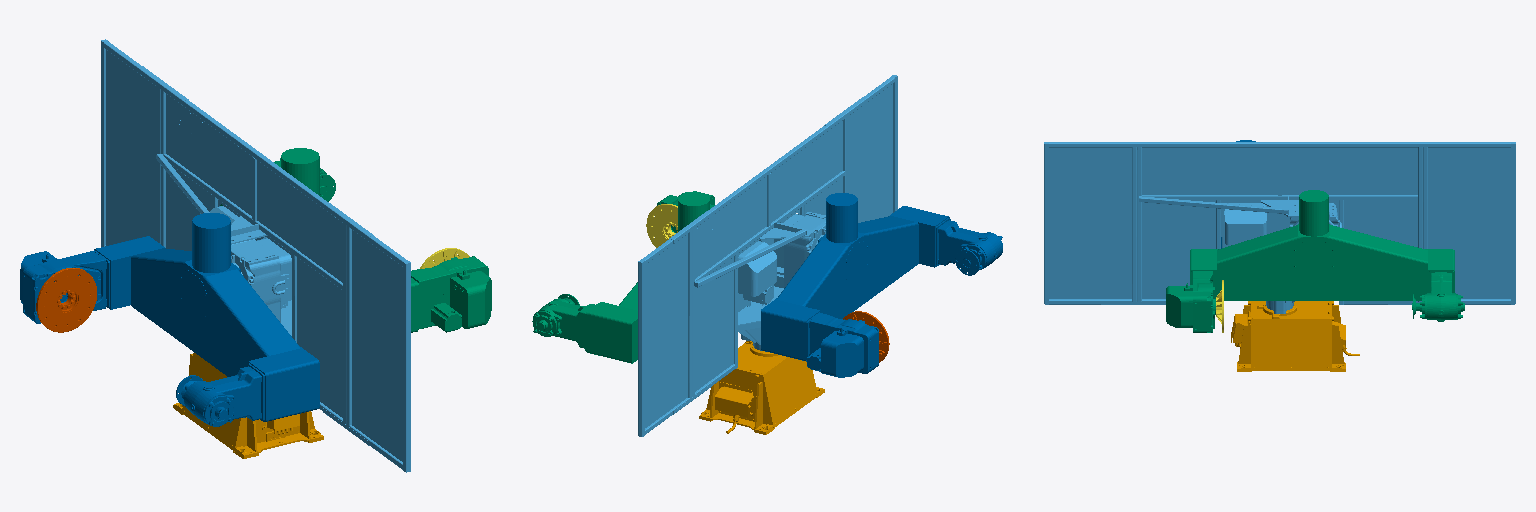
The robot description file, URDF, robot "Irbpd_600_D1000_L1600_IRC5_rev02_CAD":
<?xml version="1.0" ?>
<robot name="Irbpd_600_D1000_L1600_IRC5_rev02_CAD">

<link name="base_link">
  <inertial>
    <origin xyz="-0.00012294956196377398 0.08797612539342566 0.21441615376359383" rpy="0 0 0"/>
    <mass value="1310.5292686538126"/>
    <inertia ixx="82.104533" iyy="51.101771" izz="91.002161" ixy="0.063507" iyz="0.950218" ixz="-0.013079"/>
  </inertial>
  <visual>
    <origin xyz="0 0 0" rpy="0 0 0"/>
    <geometry>
      <mesh filename="meshes/base_link.stl" scale="0.001 0.001 0.001"/>
    </geometry>
  </visual>
  <collision>
    <origin xyz="0 0 0" rpy="0 0 0"/>
    <geometry>
      <mesh filename="meshes/base_link.stl" scale="0.001 0.001 0.001"/>
    </geometry>
  </collision>
</link>

<link name="Component12_1">
  <inertial>
    <origin xyz="0.002115300240727233 -4.3749366794873504e-05 0.66129042828105" rpy="0 0 0"/>
    <mass value="2016.8839709960466"/>
    <inertia ixx="830.474177" iyy="239.86552" izz="703.835657" ixy="-55.52602" iyz="-0.058092" ixz="2.07398"/>
  </inertial>
  <visual>
    <origin xyz="0.0 0.0 -0.481" rpy="0 0 0"/>
    <geometry>
      <mesh filename="meshes/Component12_1.stl" scale="0.001 0.001 0.001"/>
    </geometry>
  </visual>
  <collision>
    <origin xyz="0.0 0.0 -0.481" rpy="0 0 0"/>
    <geometry>
      <mesh filename="meshes/Component12_1.stl" scale="0.001 0.001 0.001"/>
    </geometry>
  </collision>
</link>

<link name="Component6_1">
  <inertial>
    <origin xyz="0.2636536705375717 -0.011340185697032434 -0.18449522862640144" rpy="0 0 0"/>
    <mass value="3054.2074119259582"/>
    <inertia ixx="1680.729912" iyy="266.394826" izz="1767.460738" ixy="109.80477" iyz="-9.127461" ixz="25.729839"/>
  </inertial>
  <visual>
    <origin xyz="-0.363 -0.288 -1.25" rpy="0 0 0"/>
    <geometry>
      <mesh filename="meshes/Component6_1.stl" scale="0.001 0.001 0.001"/>
    </geometry>
  </visual>
  <collision>
    <origin xyz="-0.363 -0.288 -1.25" rpy="0 0 0"/>
    <geometry>
      <mesh filename="meshes/Component6_1.stl" scale="0.001 0.001 0.001"/>
    </geometry>
  </collision>
</link>

<link name="Component13_1">
  <inertial>
    <origin xyz="0.0011124864297784587 0.043567865600633915 -1.5365486660812167e-13" rpy="0 0 0"/>
    <mass value="21.250303833376837"/>
    <inertia ixx="0.228504" iyy="0.446816" izz="0.231342" ixy="0.000583" iyz="0.0" ixz="-0.0"/>
  </inertial>
  <visual>
    <origin xyz="-1.145 0.5382 -1.0" rpy="0 0 0"/>
    <geometry>
      <mesh filename="meshes/Component13_1.stl" scale="0.001 0.001 0.001"/>
    </geometry>
  </visual>
  <collision>
    <origin xyz="-1.145 0.5382 -1.0" rpy="0 0 0"/>
    <geometry>
      <mesh filename="meshes/Component13_1.stl" scale="0.001 0.001 0.001"/>
    </geometry>
  </collision>
</link>

<link name="Component5_1">
  <inertial>
    <origin xyz="-0.2636536768667922 0.01134018284870364 -0.18449522839979826" rpy="0 0 0"/>
    <mass value="3054.2074576138025"/>
    <inertia ixx="1680.729959" iyy="266.394835" izz="1767.460793" ixy="109.804768" iyz="9.127457" ixz="-25.729839"/>
  </inertial>
  <visual>
    <origin xyz="0.363 0.288 -1.25" rpy="0 0 0"/>
    <geometry>
      <mesh filename="meshes/Component5_1.stl" scale="0.001 0.001 0.001"/>
    </geometry>
  </visual>
  <collision>
    <origin xyz="0.363 0.288 -1.25" rpy="0 0 0"/>
    <geometry>
      <mesh filename="meshes/Component5_1.stl" scale="0.001 0.001 0.001"/>
    </geometry>
  </collision>
</link>

<link name="Component7_1">
  <inertial>
    <origin xyz="-0.0011124864301064186 -0.04356786560049791 1.021405182655144e-13" rpy="0 0 0"/>
    <mass value="21.250303833372286"/>
    <inertia ixx="0.228504" iyy="0.446816" izz="0.231342" ixy="0.000583" iyz="0.0" ixz="-0.0"/>
  </inertial>
  <visual>
    <origin xyz="1.145 -0.5382 -1.0" rpy="0 0 0"/>
    <geometry>
      <mesh filename="meshes/Component7_1.stl" scale="0.001 0.001 0.001"/>
    </geometry>
  </visual>
  <collision>
    <origin xyz="1.145 -0.5382 -1.0" rpy="0 0 0"/>
    <geometry>
      <mesh filename="meshes/Component7_1.stl" scale="0.001 0.001 0.001"/>
    </geometry>
  </collision>
</link>

<joint name="j1" type="continuous">
  <origin xyz="0.0 0.0 0.481" rpy="0 0 0"/>
  <parent link="base_link"/>
  <child link="Component12_1"/>
  <axis xyz="0.0 0.0 -1.0"/>
</joint>

<joint name="j2" type="continuous">
  <origin xyz="0.363 0.288 0.769" rpy="0 0 0"/>
  <parent link="Component12_1"/>
  <child link="Component6_1"/>
  <axis xyz="1.0 0.0 0.0"/>
</joint>

<joint name="j3" type="continuous">
  <origin xyz="0.782 -0.8262 -0.25" rpy="0 0 0"/>
  <parent link="Component6_1"/>
  <child link="Component13_1"/>
  <axis xyz="0.0 -1.0 0.0"/>
</joint>

<joint name="j4" type="continuous">
  <origin xyz="-0.363 -0.288 0.769" rpy="0 0 0"/>
  <parent link="Component12_1"/>
  <child link="Component5_1"/>
  <axis xyz="-1.0 0.0 0.0"/>
</joint>

<joint name="j5" type="continuous">
  <origin xyz="-0.782 0.8262 -0.25" rpy="0 0 0"/>
  <parent link="Component5_1"/>
  <child link="Component7_1"/>
  <axis xyz="-0.0 1.0 -0.0"/>
</joint>

</robot>

--- Render facts (derived) ---
3 views of the same robot in one strip: view 1: azimuth 30°, elevation 25°; view 2: azimuth 150°, elevation 25°; view 3: azimuth 270°, elevation 25° (orthographic).
Model Irbpd_600_D1000_L1600_IRC5_rev02_CAD with 6 links and 5 joints (5 continuous), rooted at base_link, posed every joint at zero.
Links seen in each view (by area): view 1: Component12_1, Component5_1, Component6_1, base_link, Component7_1; view 2: Component12_1, Component5_1, base_link, Component6_1, Component13_1, Component7_1; view 3: Component12_1, Component6_1, base_link.
Boxes of the visible links, left/top/right/bottom form: Component12_1: left=101, top=39, right=410, bottom=472; Component5_1: left=20, top=213, right=319, bottom=426; Component6_1: left=220, top=148, right=491, bottom=332; base_link: left=173, top=353, right=323, bottom=458; Component7_1: left=36, top=268, right=96, bottom=332; Component12_1: left=638, top=75, right=897, bottom=436; Component5_1: left=761, top=193, right=1002, bottom=377; base_link: left=699, top=341, right=824, bottom=434; Component6_1: left=532, top=191, right=714, bottom=363; Component13_1: left=646, top=204, right=677, bottom=247; Component7_1: left=843, top=311, right=889, bottom=362; Component12_1: left=1044, top=142, right=1515, bottom=313; Component6_1: left=1166, top=190, right=1464, bottom=332; base_link: left=1231, top=301, right=1359, bottom=371.
Size in the robot's own frame: 2.74 by 3.99 by 2.01 metres.
Meshes: 6 distinct files referenced, 6 mesh visuals loaded (6 binary STL).